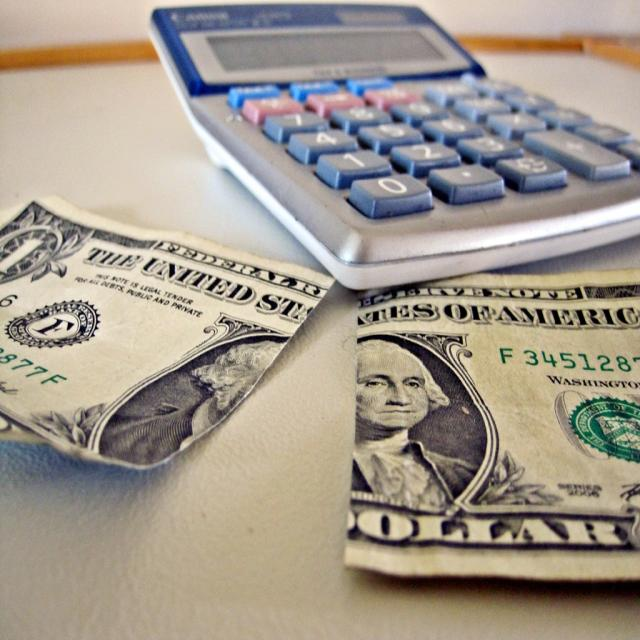Calculator: (146, 0, 640, 290)
